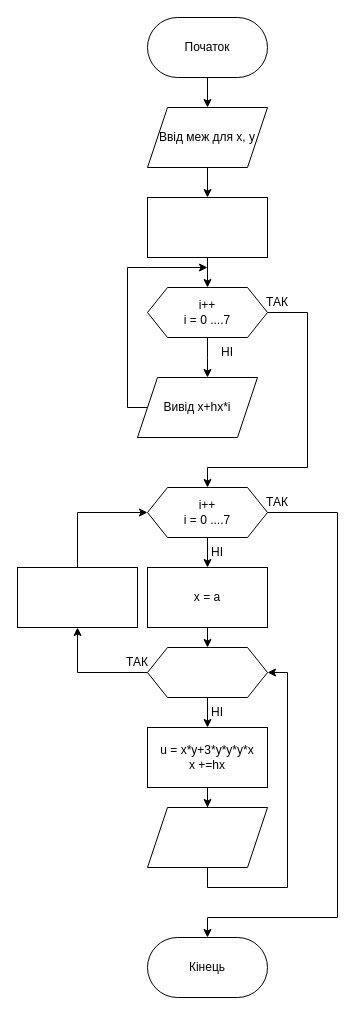
Image size: 363x1015. Some labels were removed from this diagram. The centre of each missing label's shape, as x and y in pixels:
"j++ j = 0 ... 7" goes at point 207,672.
"x = a hx = (b-a)/7 y=c hy = (d-c)/7" goes at point 207,227.
"y += hy" goes at point 77,597.
"Вивід u" goes at point 207,837.
